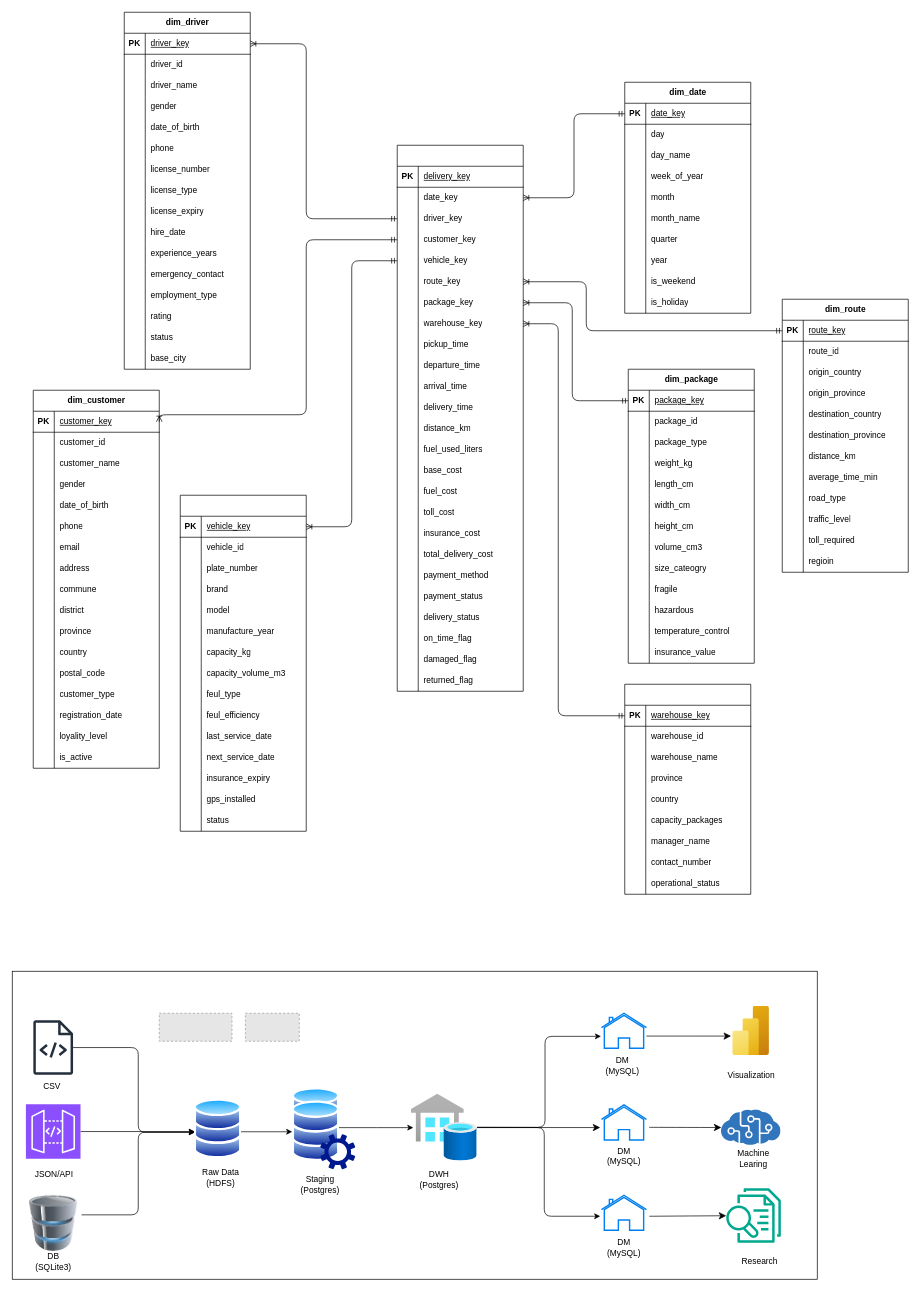
Some shapes in this 921 by 1292 pixel diagram are drawn without their labels. Grey dashed boxes stand in for pictures. The box of each missing label's shape, as (x1, y1, x2, y2) in pixels:
dim_vehicle: (180, 495, 306, 831)
dim_warehouse: (624, 684, 751, 894)
fact_delivery: (397, 145, 523, 691)
